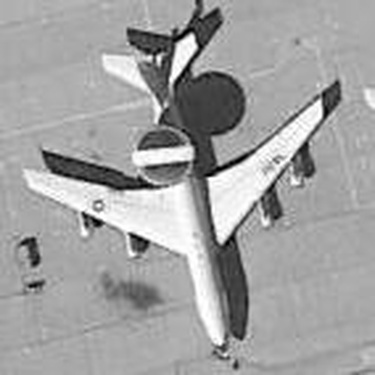airplane: (18, 19, 336, 362), (349, 63, 373, 125)
